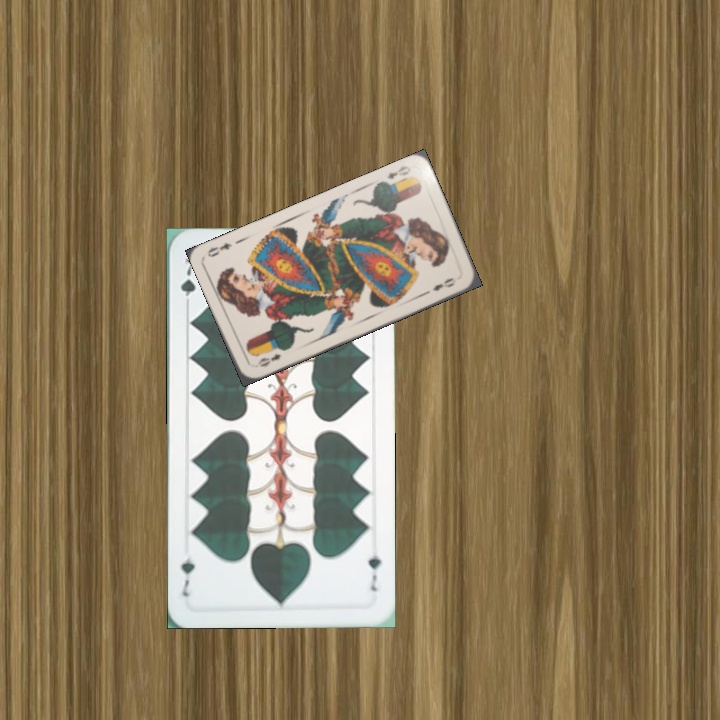EO: (254, 350, 283, 370), (384, 162, 413, 182)
G7: (176, 255, 198, 312), (364, 551, 384, 594)
